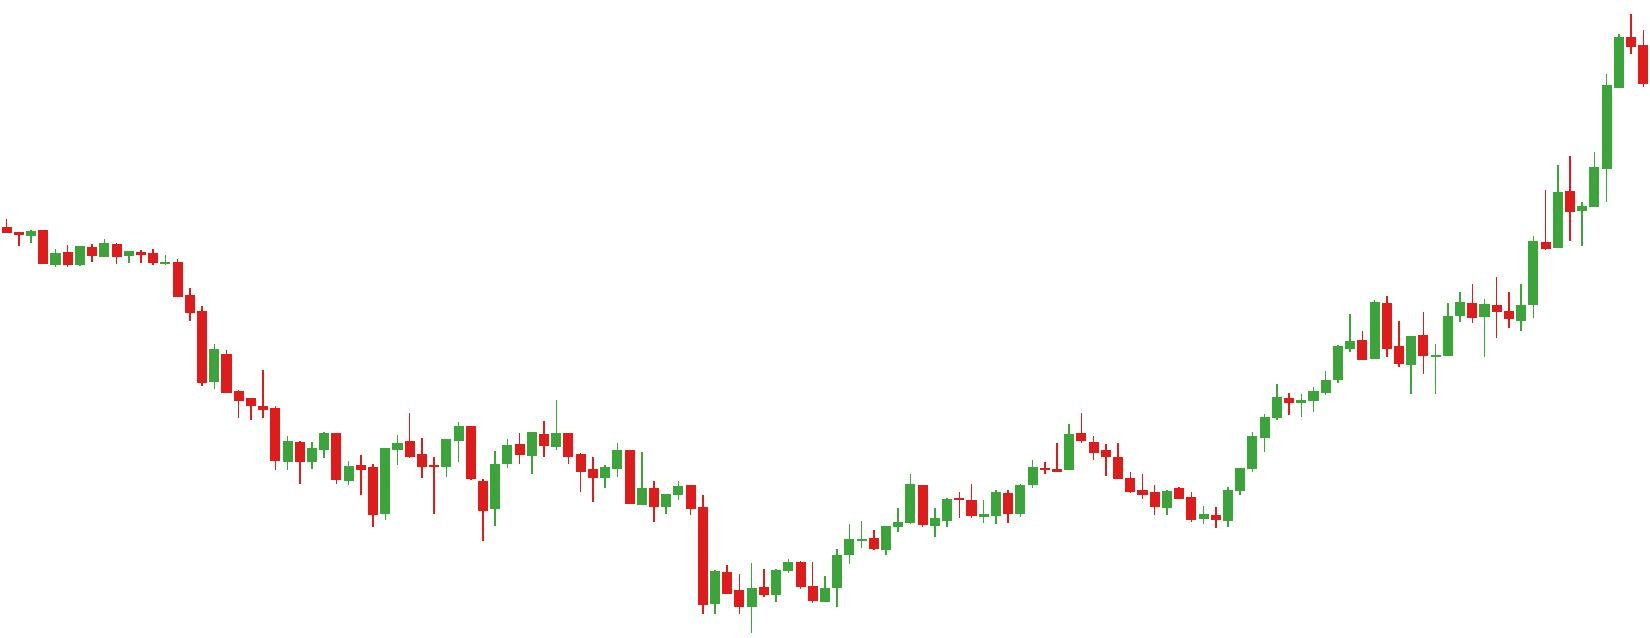sell: (452, 402, 576, 506), (319, 404, 416, 498)
